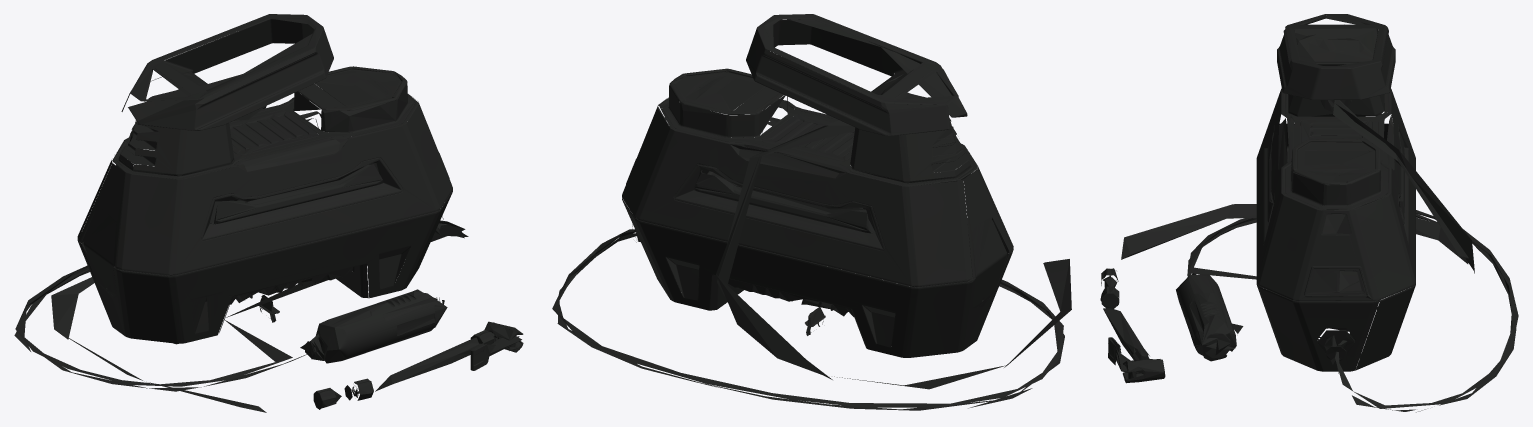
The model's file is serviceTool_inflator_a01.glb.
3 renders of one model, left to right at view 1: azimuth 30°, elevation 25°; view 2: azimuth 150°, elevation 25°; view 3: azimuth 270°, elevation 25°, orthographic. The views are drawn at different scales.
Parts seen in each view (by area): view 1: geometry_0; view 2: geometry_0; view 3: geometry_0.
Part boxes in pixels (bbox=[...]): geometry_0: bbox=[14, 14, 523, 412]; geometry_0: bbox=[552, 14, 1071, 410]; geometry_0: bbox=[1100, 14, 1518, 412].
Size of the model in its own units: 0.42 by 0.2608 by 0.353.
1 material, 1 textured.
